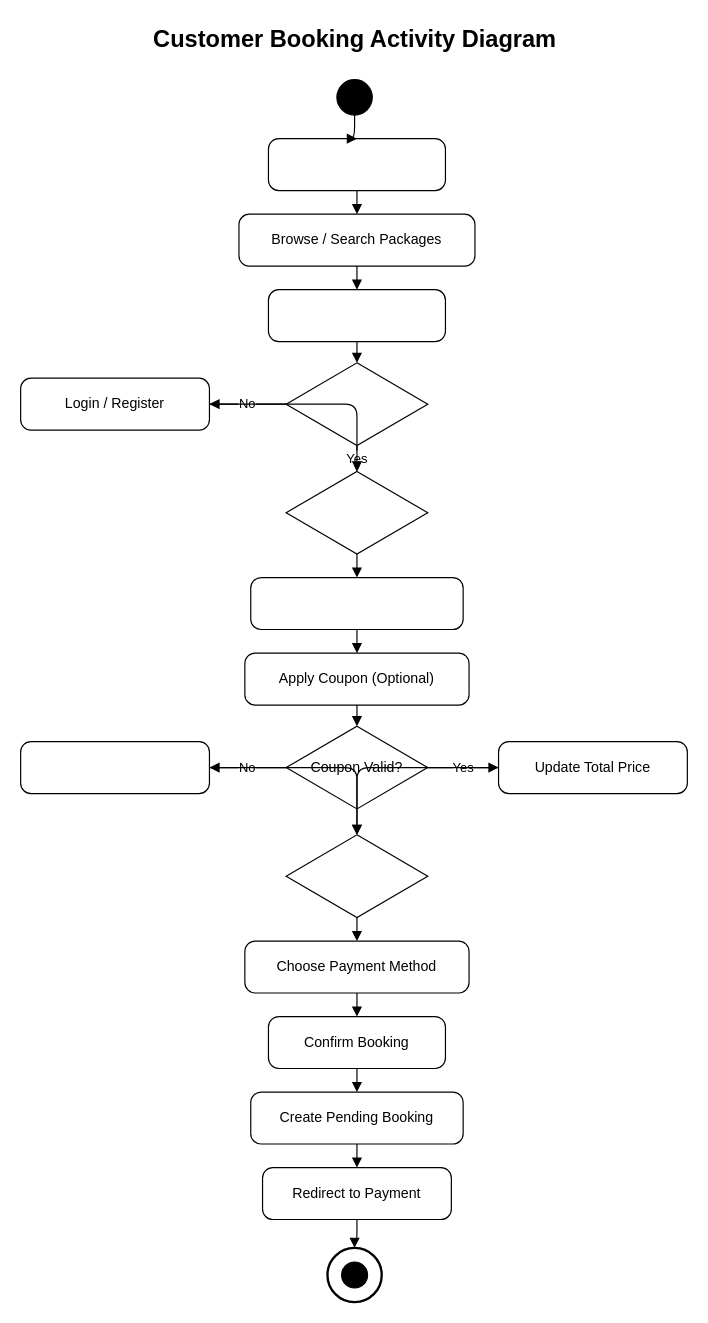
The diagram is 708 pixels wide and 1323 high, and some of its shapes have lost their labels. Each missing label, with the centre of its shape:
"Enter Traveler Details" belongs at (356,603).
"Logged In?" belongs at (356,403).
"Open Website" belongs at (356,164).
"Select Package" belongs at (356,315).
"Show Coupon Error" belongs at (114,767).
